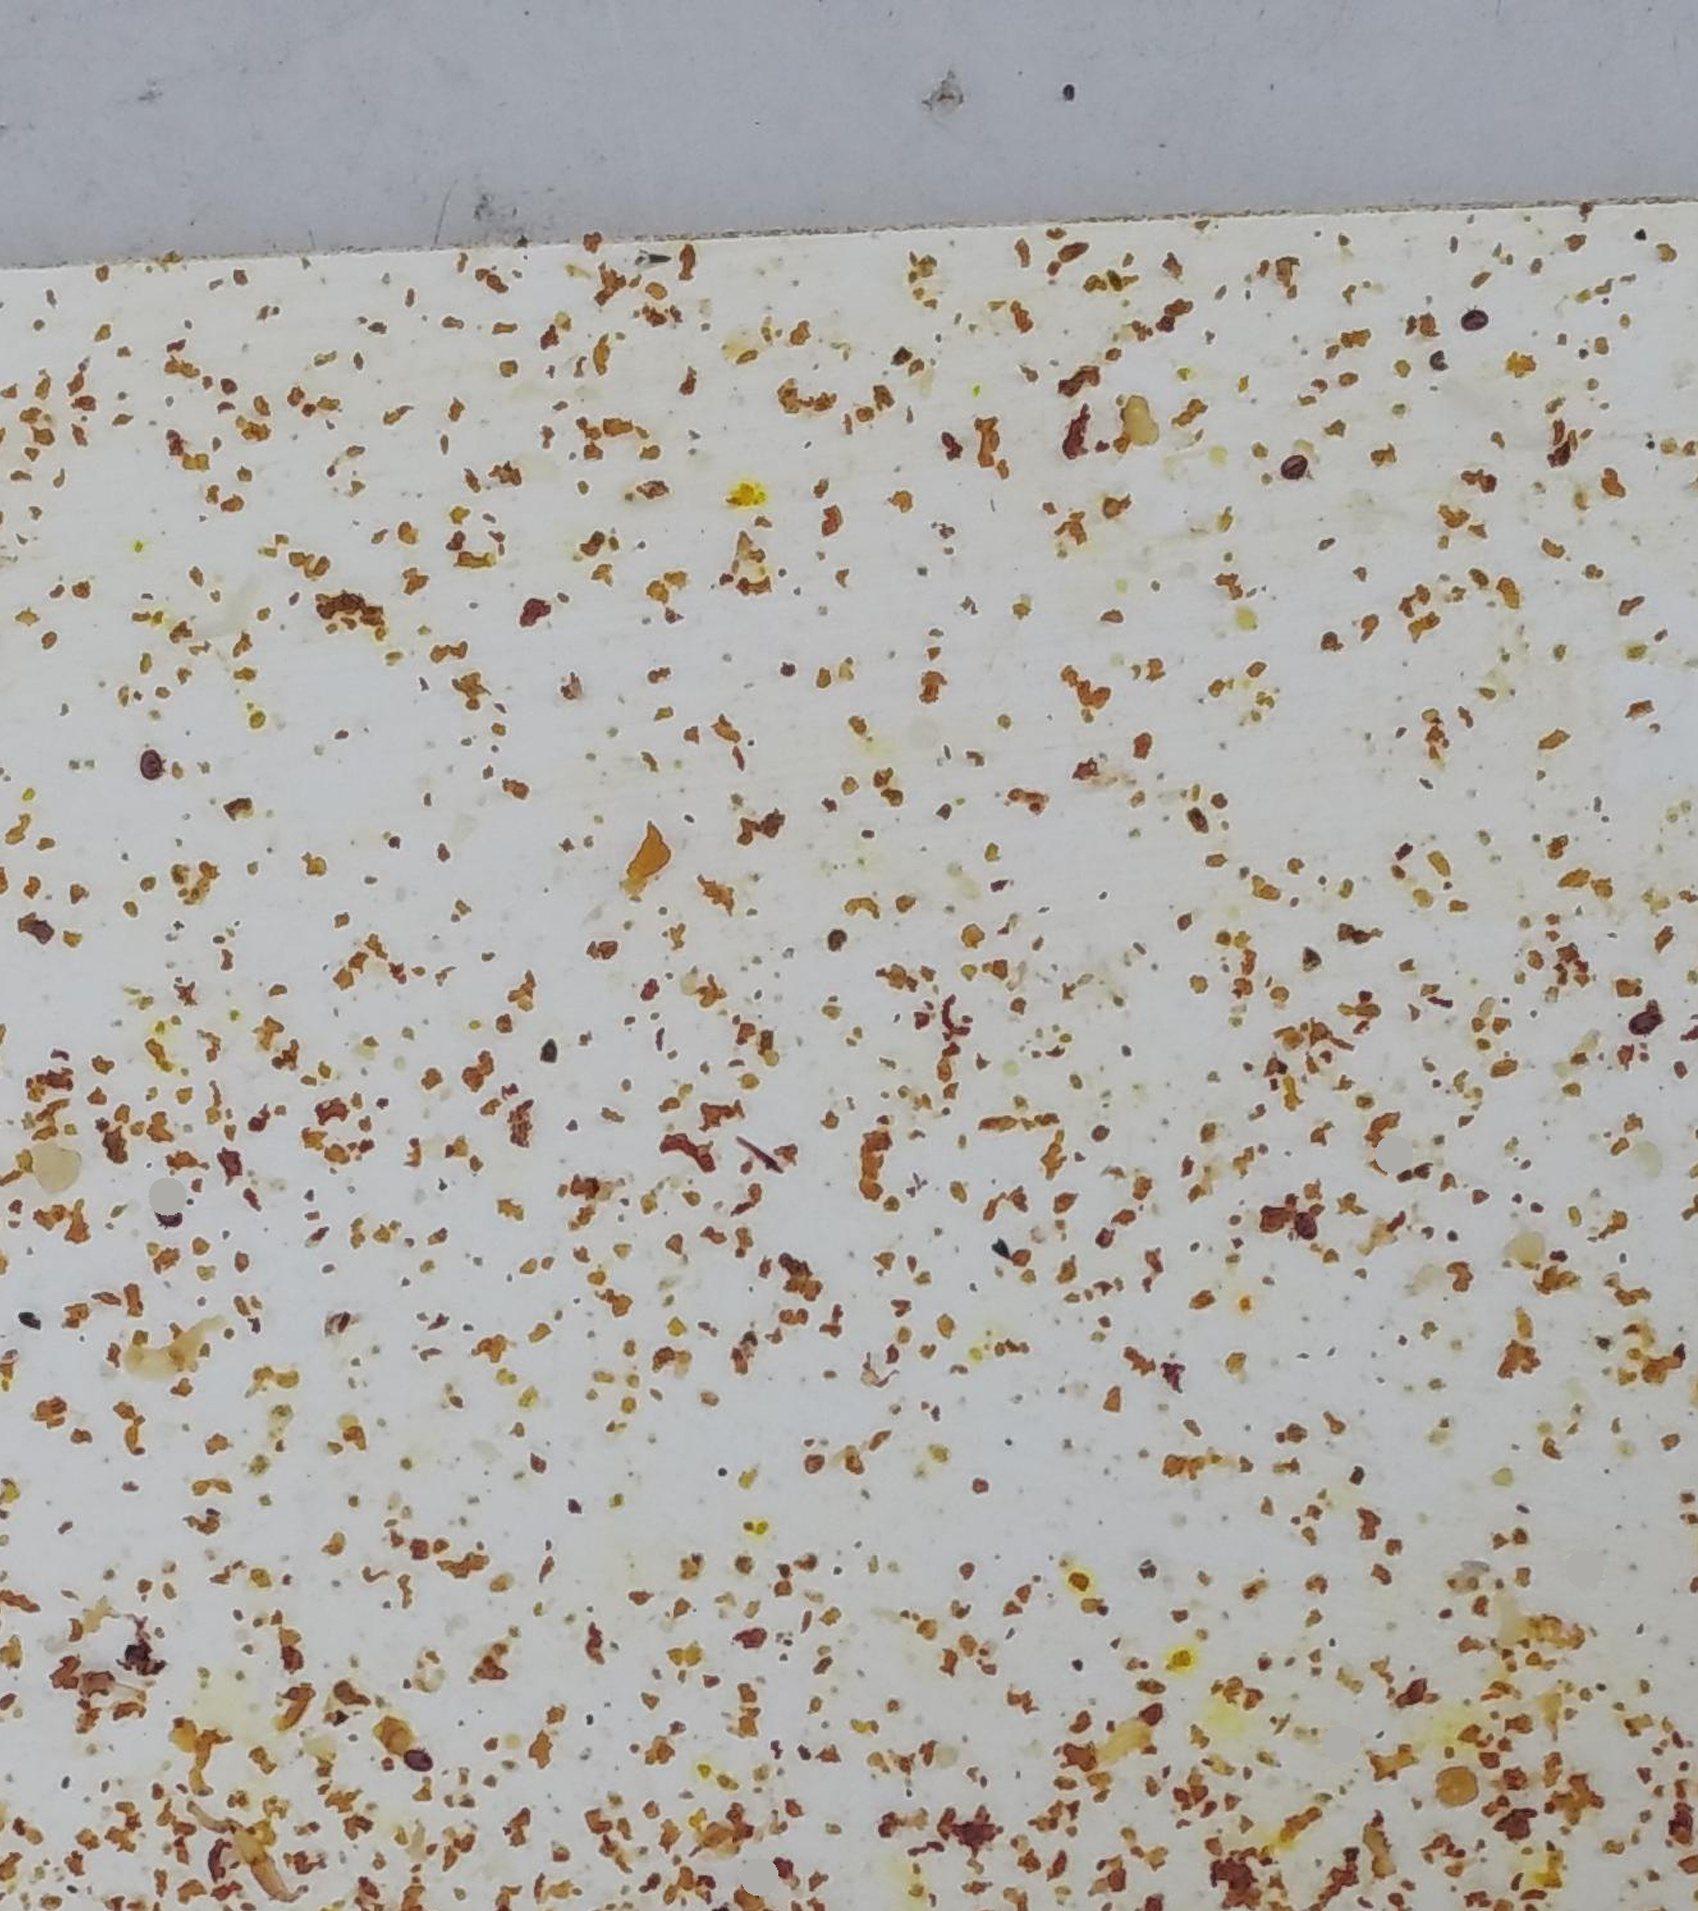Varroa: (1455, 310, 1485, 339), (1285, 1205, 1314, 1234), (1282, 456, 1306, 482), (406, 1747, 433, 1772), (1629, 1011, 1654, 1036), (134, 756, 161, 778), (151, 1206, 175, 1229)
